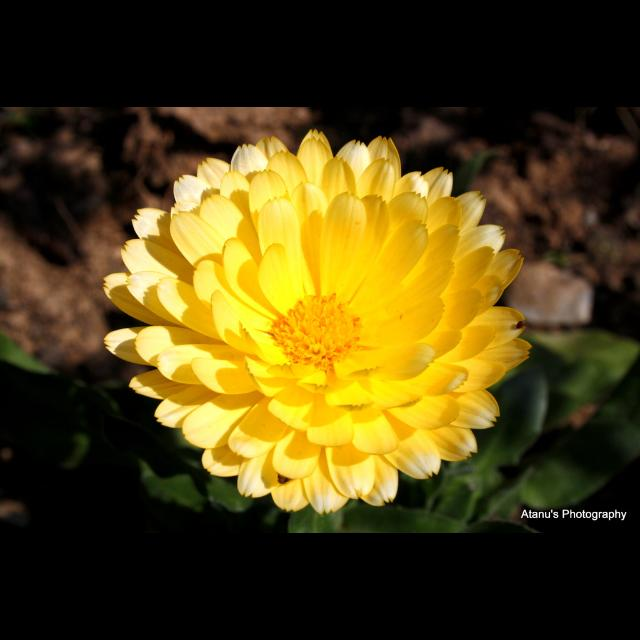Flower: (99, 126, 533, 514)
